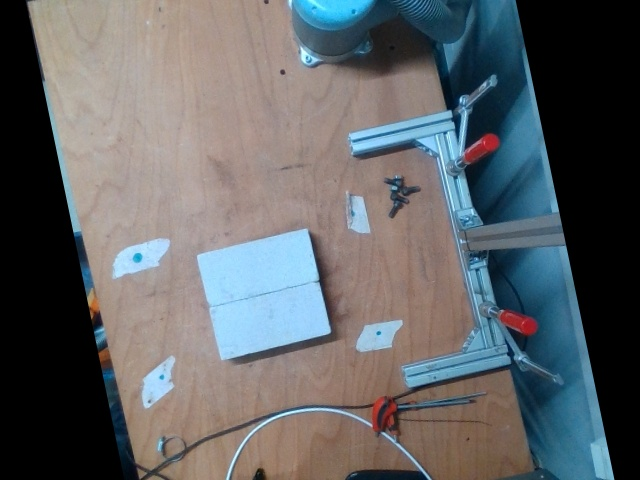brick: (209, 281, 330, 360), (198, 229, 318, 307)
